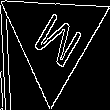M_SW: (24, 5, 83, 72)
